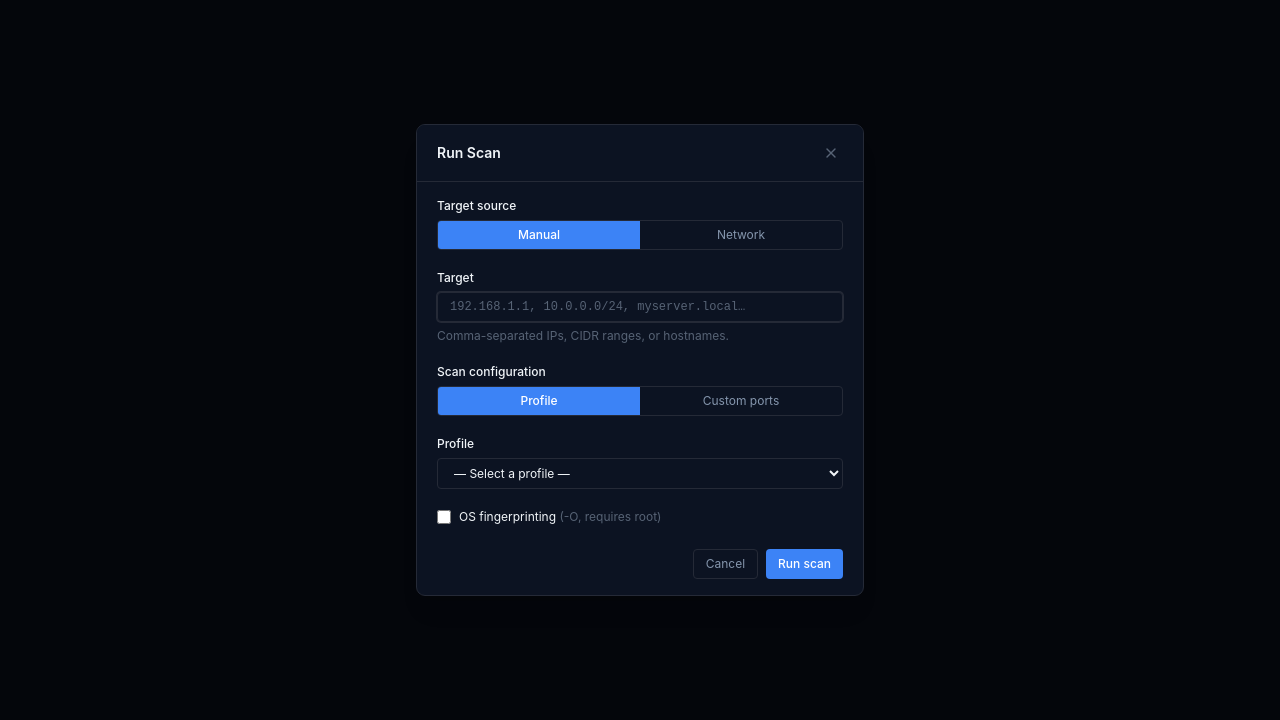
Test: RunScanModal › shows an error when submitted with an empty target
Step 1. Click the button "Run scan" → [804, 564], box [766,549,843,579]
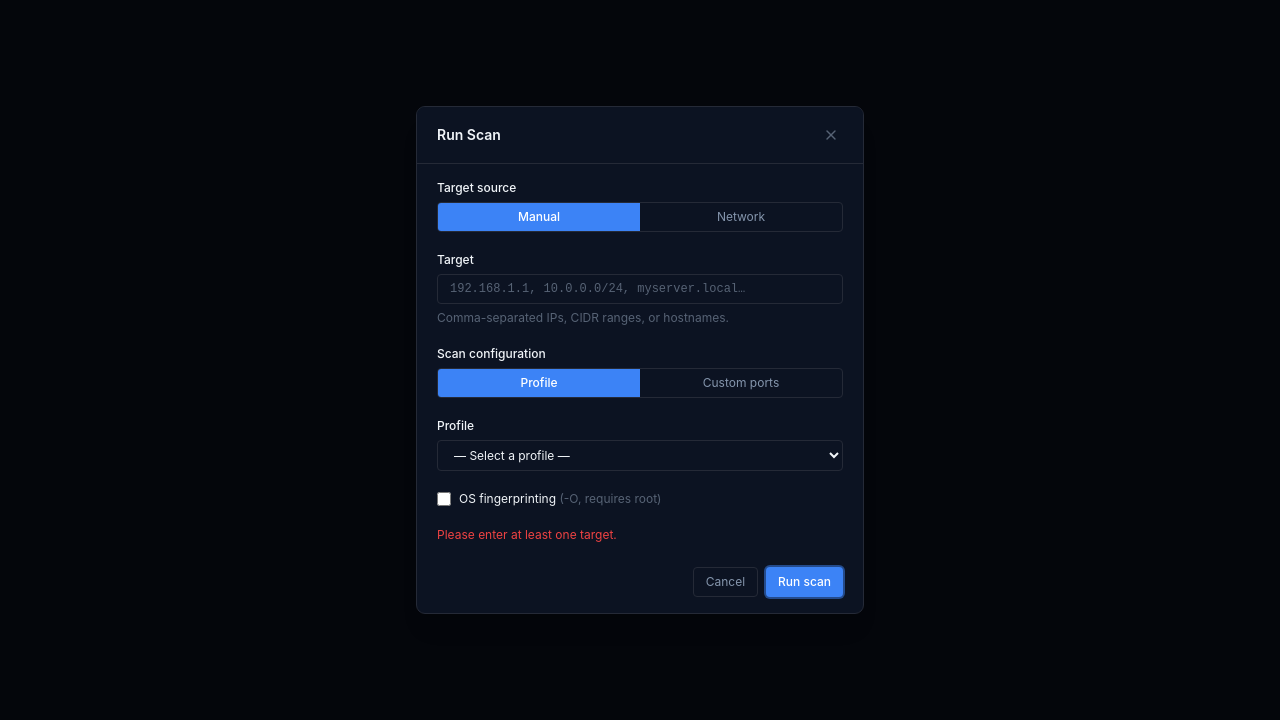
Expected: the message reads "Please enter at least one target.", [437,527,617,542]
